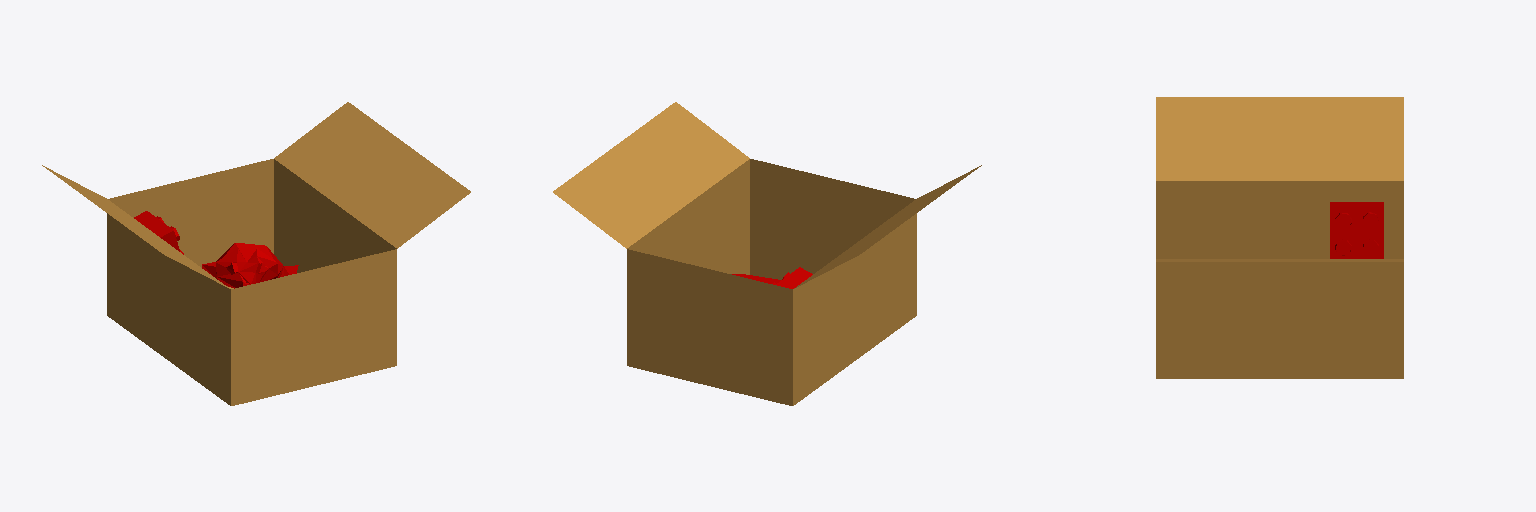
3 renders of one model, left to right at view 1: azimuth 30°, elevation 25°; view 2: azimuth 150°, elevation 25°; view 3: azimuth 270°, elevation 25°, orthographic.
Visible parts, largest first — view 1: Cube, Suzanne, Lego_[number redacted]-16529-Znneya-0; view 2: Cube; view 3: Cube, Lego_[number redacted]-16529-Znneya-0.
Part boxes in pixels (x1,y1,x2,y2): Cube: (42,102,470,405); Suzanne: (202,243,298,288); Lego_[number redacted]-16529-Znneya-0: (134,211,183,254); Cube: (553,102,981,405); Cube: (1156,97,1403,378); Lego_[number redacted]-16529-Znneya-0: (1330,202,1383,258).
Size of the model in its own units: 3.7 by 1.93 by 2.58.